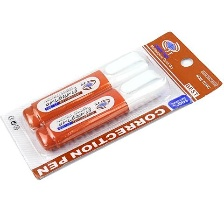book: (0, 30, 224, 181)
correction_fluid: (33, 66, 170, 150), (20, 50, 151, 135)
